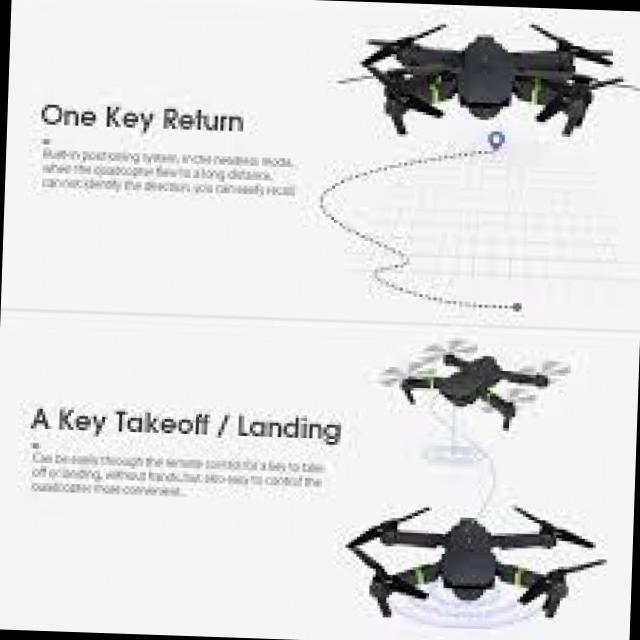drone: (320, 6, 639, 160), (343, 489, 606, 640), (374, 325, 571, 450)
